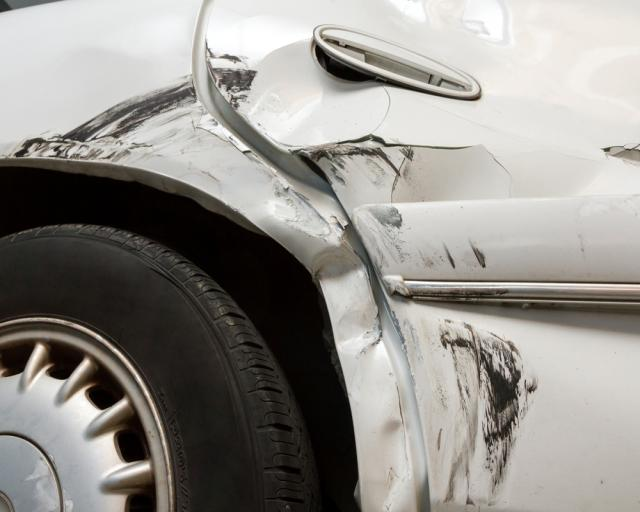crack: (597, 143, 640, 155)
dent: (302, 134, 602, 209), (230, 38, 388, 147), (311, 243, 386, 360)
scratch: (8, 71, 332, 240), (419, 310, 539, 511), (353, 201, 487, 271), (204, 38, 250, 96)
